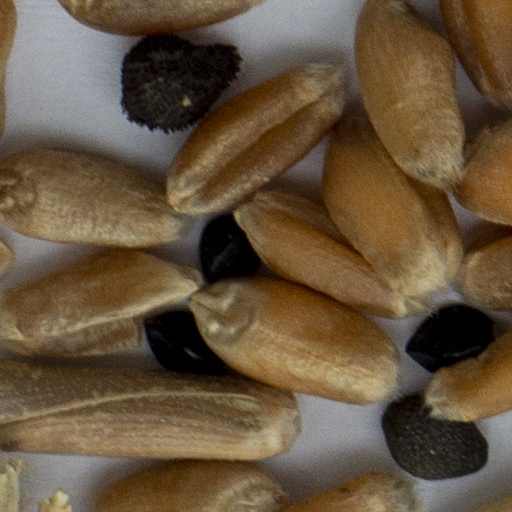Agrostemma-poly: (122, 35, 240, 130)
Convolvulus-poly: (385, 397, 486, 477)
Fallopia-Сonvolvulus-poly: (407, 307, 493, 370), (146, 315, 226, 373), (201, 217, 258, 284)
